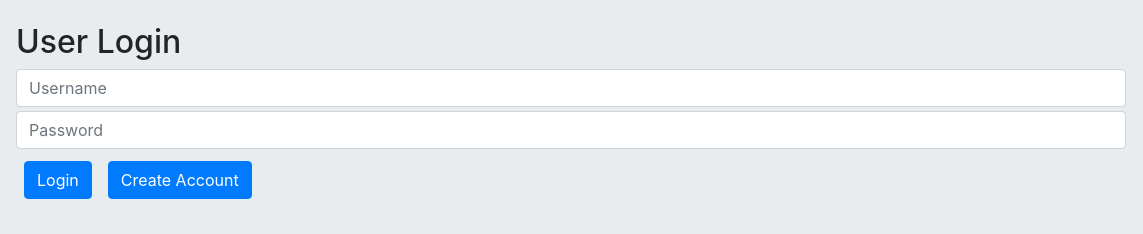
Login Form › confirmation message › should display an error message when user failed to logged in
Click the button with test id "login__button" at (58, 180), box top-left (24, 161), bottom-right (92, 199)
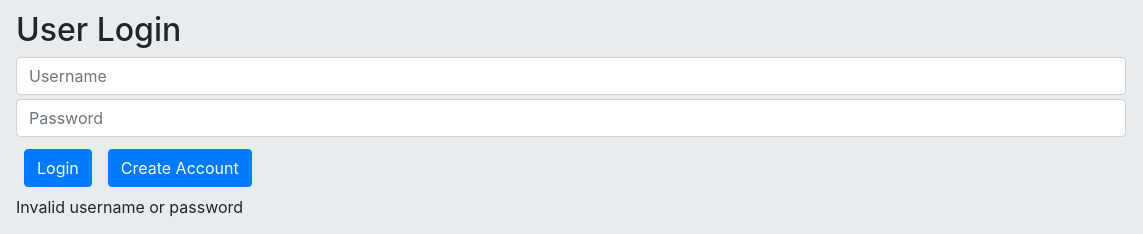
Now the text "Invalid username or password" is shown, box top-left (16, 197), bottom-right (243, 217)
